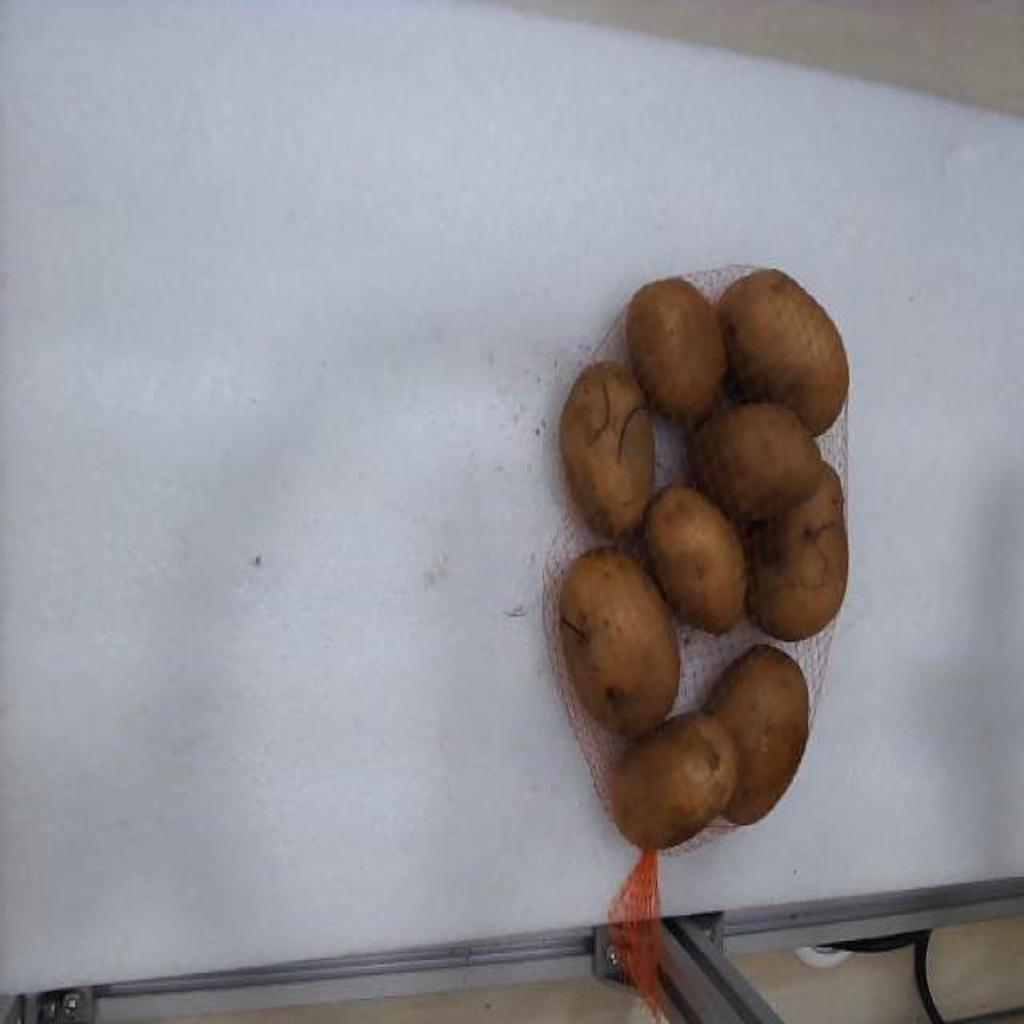potato: (560, 547, 678, 735), (718, 269, 848, 436), (708, 645, 808, 824), (748, 464, 848, 639), (612, 715, 738, 849), (560, 360, 654, 536), (690, 403, 824, 521), (644, 485, 744, 633), (628, 280, 726, 423)
